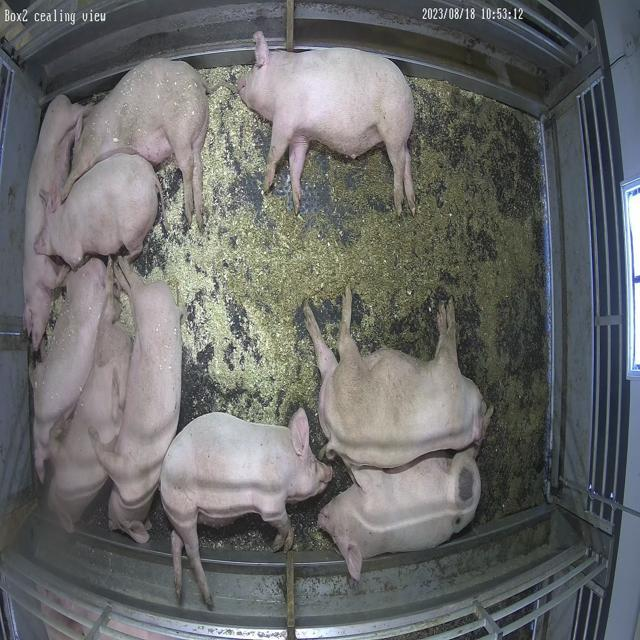Dirt: (228, 78, 549, 520)
Pig: (160, 409, 333, 610), (305, 288, 486, 468), (239, 32, 416, 214), (93, 257, 182, 544), (63, 58, 208, 224), (319, 448, 482, 582), (48, 298, 131, 532), (33, 259, 108, 480), (23, 95, 86, 352), (35, 153, 159, 268)
